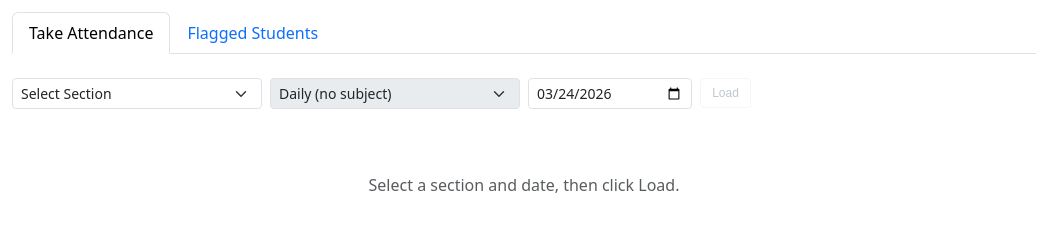
AttendancePage › flagged students › shows flagged students from API
The width and height of the screenshot is (1048, 246).
Click the button with class "nav-link" showing "Flagged Students" at {"x": 253, "y": 33}, box left=170, top=12, right=335, bottom=54
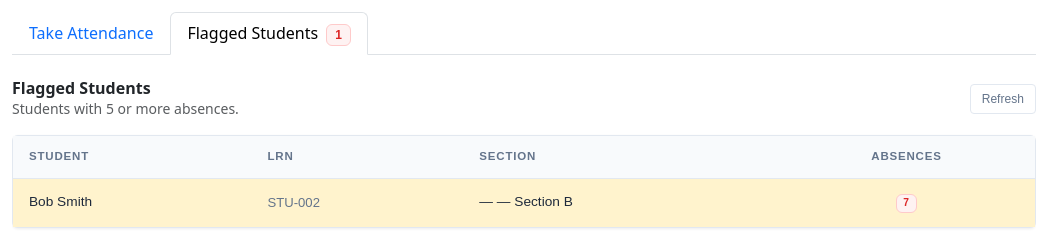
Result: the text "Bob Smith" is shown at left=13, top=178, right=252, bottom=227
Result: the text "7" is shown at left=896, top=194, right=917, bottom=213
